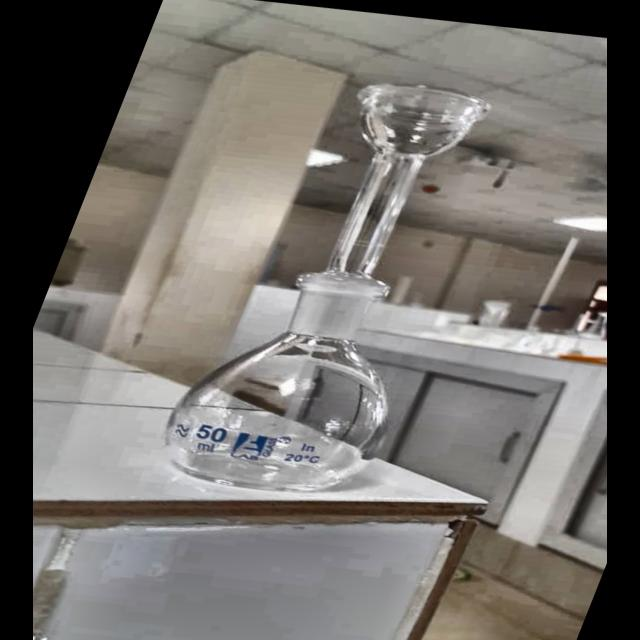Density Bottles for Solids: (131, 68, 561, 508)
